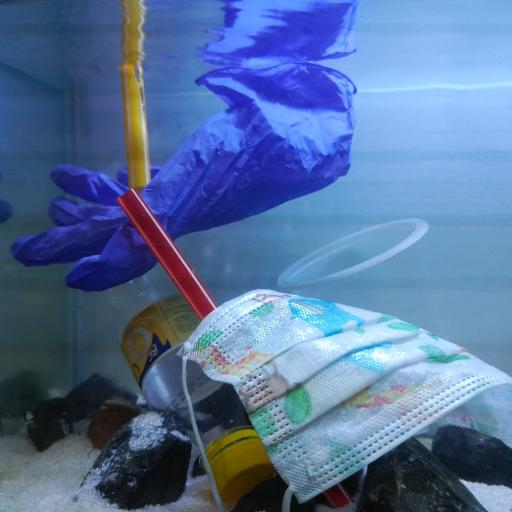bottle_cap: (210, 436, 274, 504)
glove: (11, 63, 356, 295)
mask: (180, 290, 512, 503)
plastic_bottle: (95, 259, 275, 504)
plastic_cup: (276, 218, 448, 337)
plastic_straw: (118, 189, 352, 505), (122, 63, 152, 190)
